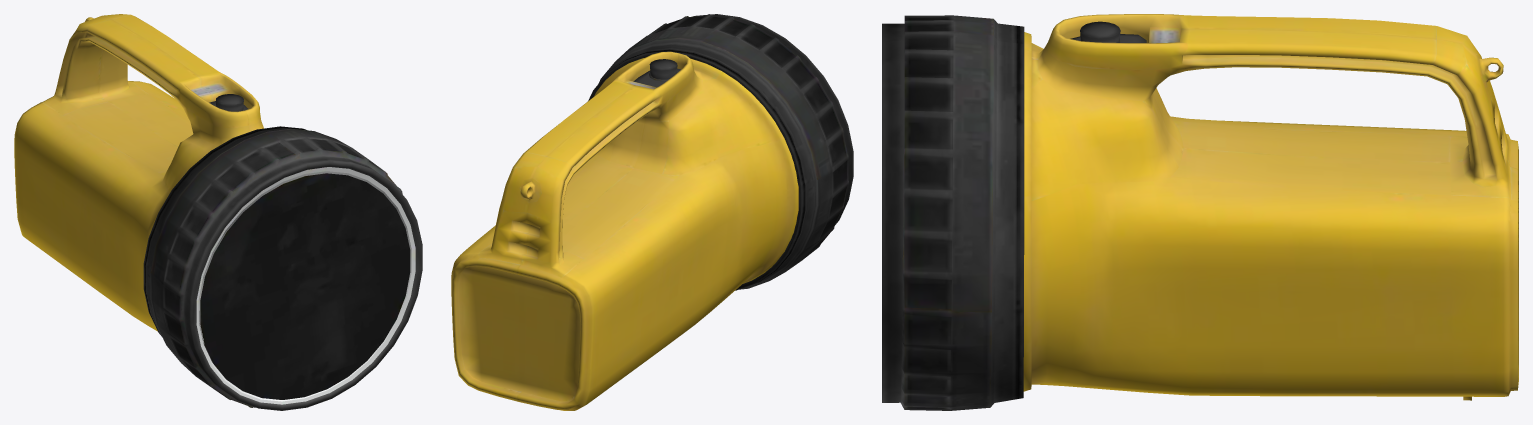
File: pastic_torch_6v.glb
3 views of the same model, side by side, from view 1: azimuth 30°, elevation 25°; view 2: azimuth 150°, elevation 25°; view 3: azimuth 270°, elevation 25° (orthographic). The views are drawn at different scales.
Parts seen in each view (by area): view 1: pastic_torch_6v; view 2: pastic_torch_6v; view 3: pastic_torch_6v.
Boxes of the visible parts, <box> form: pastic_torch_6v: <box>14,14,422,410</box>; pastic_torch_6v: <box>451,14,853,410</box>; pastic_torch_6v: <box>882,14,1518,410</box>.
Size of the model in its own units: 0.1369 by 0.1417 by 0.2242.
2 materials, 2 textured.
